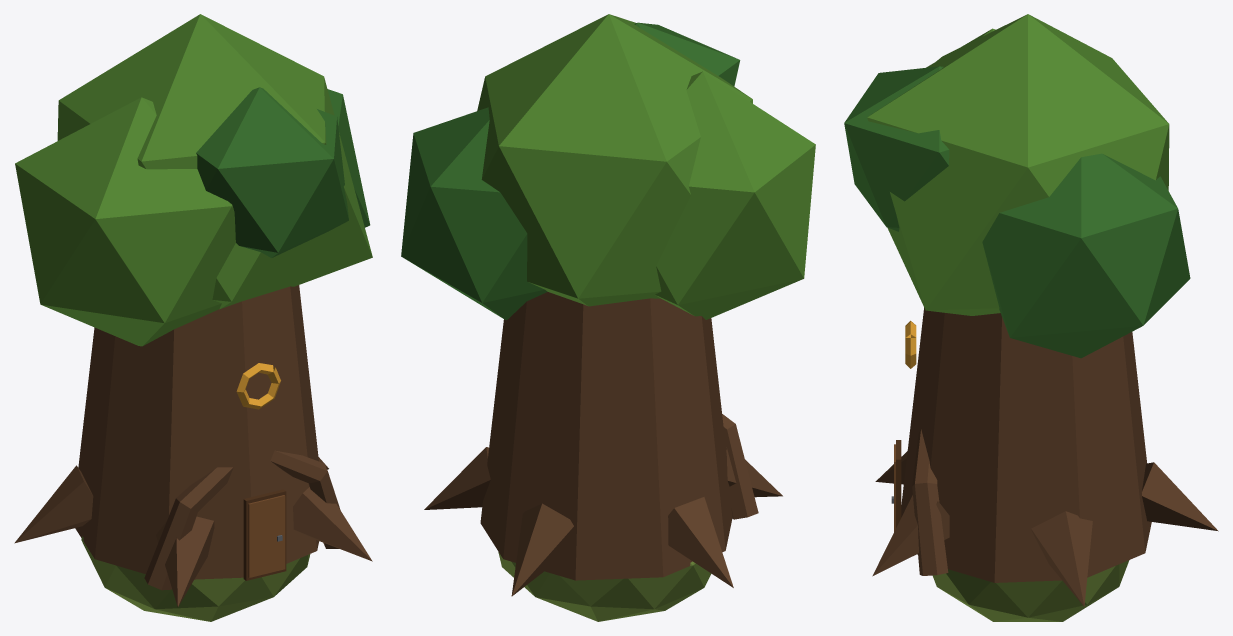
File: treekin_hall.glb
3 views of the same model, side by side, from view 1: azimuth 30°, elevation 25°; view 2: azimuth 150°, elevation 25°; view 3: azimuth 270°, elevation 25° (orthographic).
Visible parts, largest first — view 1: treekin_hall; view 2: treekin_hall; view 3: treekin_hall.
Boxes of the visible parts, x1,y1,x2,y2 form: treekin_hall: (14, 14, 372, 621); treekin_hall: (401, 14, 815, 621); treekin_hall: (844, 14, 1218, 621).
Size of the model in its own units: 2.99 by 4.91 by 2.79.
